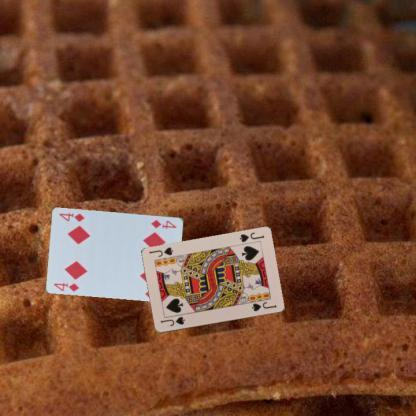4d: (148, 218, 178, 230), (51, 280, 80, 292)
Js: (236, 230, 266, 244), (158, 314, 186, 328)
